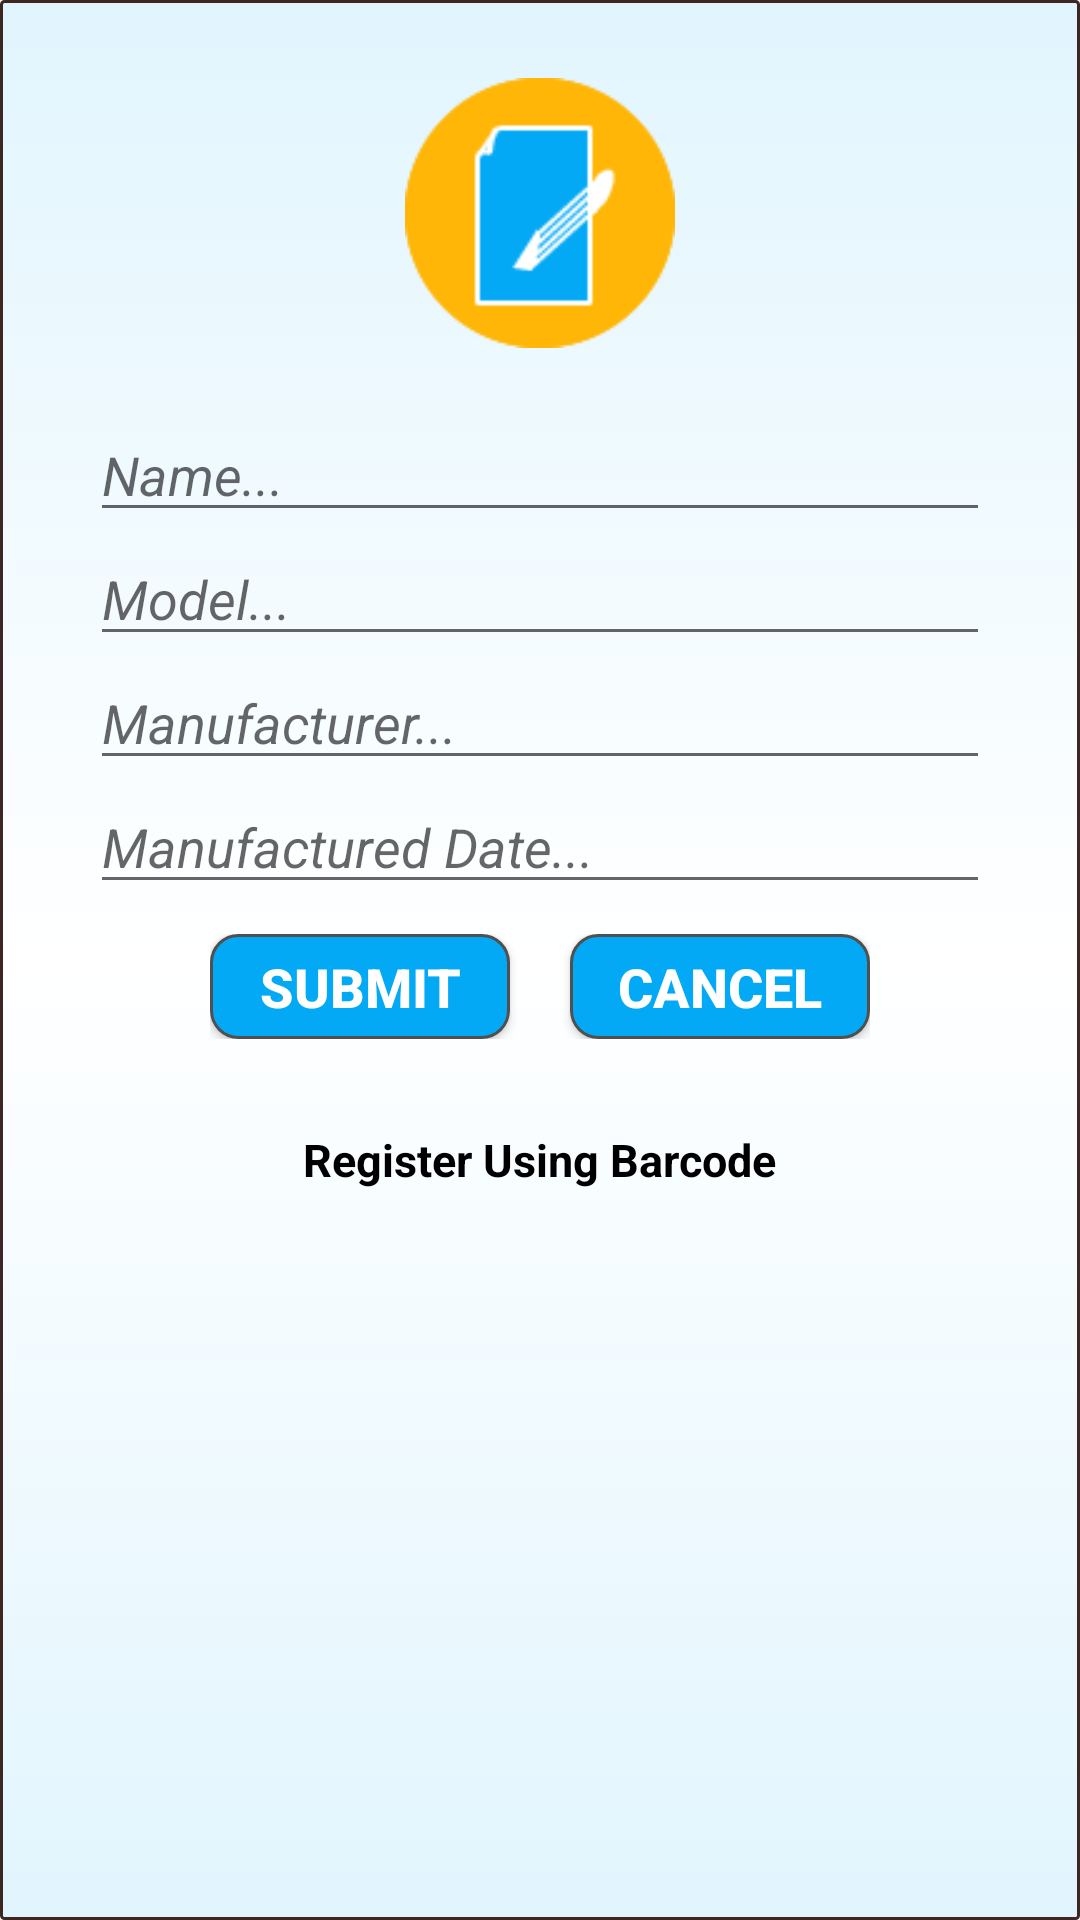

Where icons sit on this 1080*1920 app screen, as BBox(x1, y1, x2, y2):
registration: BBox(405, 78, 675, 348)
